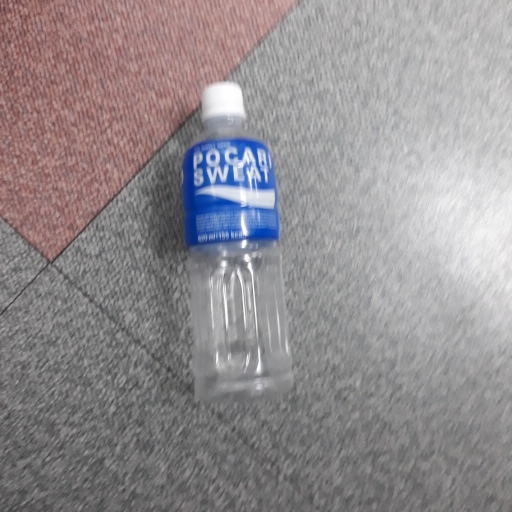Plastic_0: (182, 78, 297, 402)
